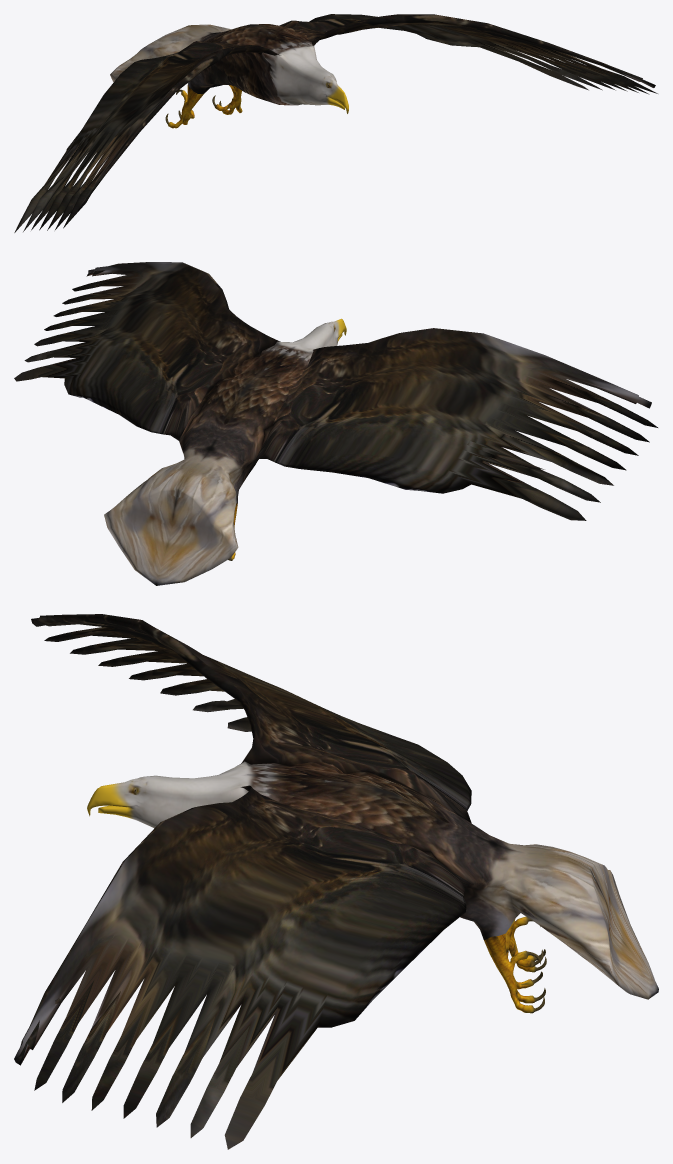
Rendered from Eagle-original_000038.obj.
The picture shows the model from 3 angles, top to bottom: view 1: azimuth 30°, elevation 25°; view 2: azimuth 150°, elevation 25°; view 3: azimuth 270°, elevation 25°; orthographic projection. The views are drawn at different scales.
Parts seen in each view (by area): view 1: Flugel_Plane.003; view 2: Flugel_Plane.003; view 3: Flugel_Plane.003.
Boxes of the visible parts, <box> form: Flugel_Plane.003: <box>14,14,657,232</box>; Flugel_Plane.003: <box>14,262,657,585</box>; Flugel_Plane.003: <box>14,614,658,1149</box>.
Size of the model in its own units: 10.36 by 2.88 by 6.42.
Materials: 1 (1 with a texture image).
